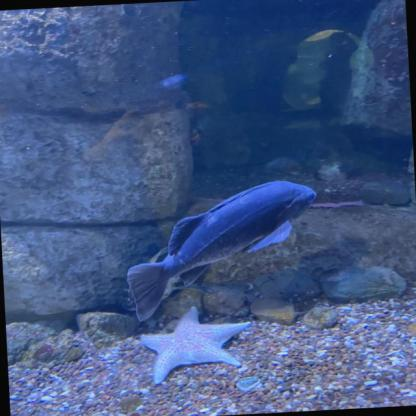fish: (123, 179, 322, 322)
starfish: (138, 304, 253, 386)
